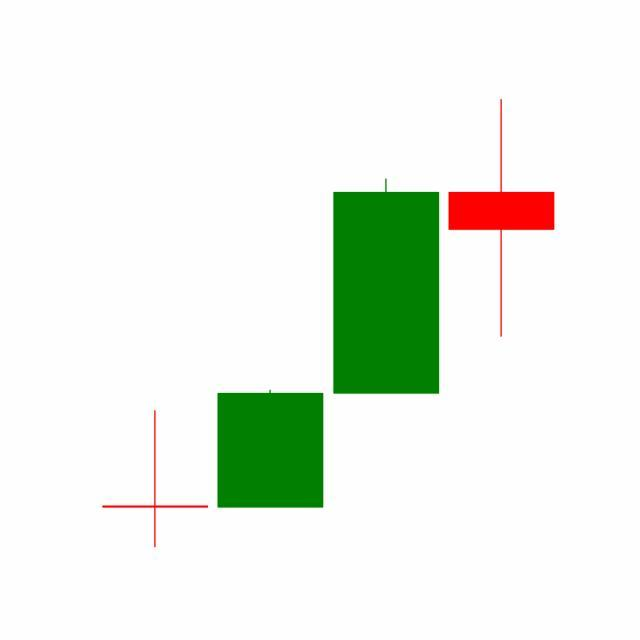Marubozu: (329, 177, 445, 397)
